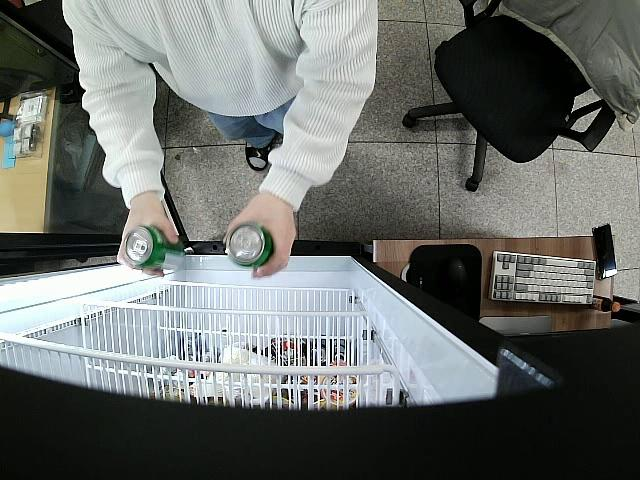00_hand: (223, 202, 295, 279), (117, 211, 179, 277)
12_chilsungCider: (124, 225, 185, 273), (226, 223, 274, 269)
